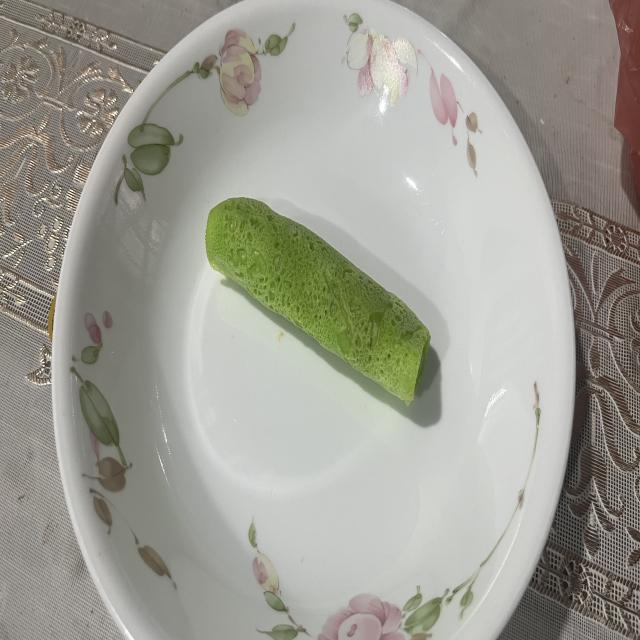Kuih-Ketayap: (206, 198, 430, 404)
